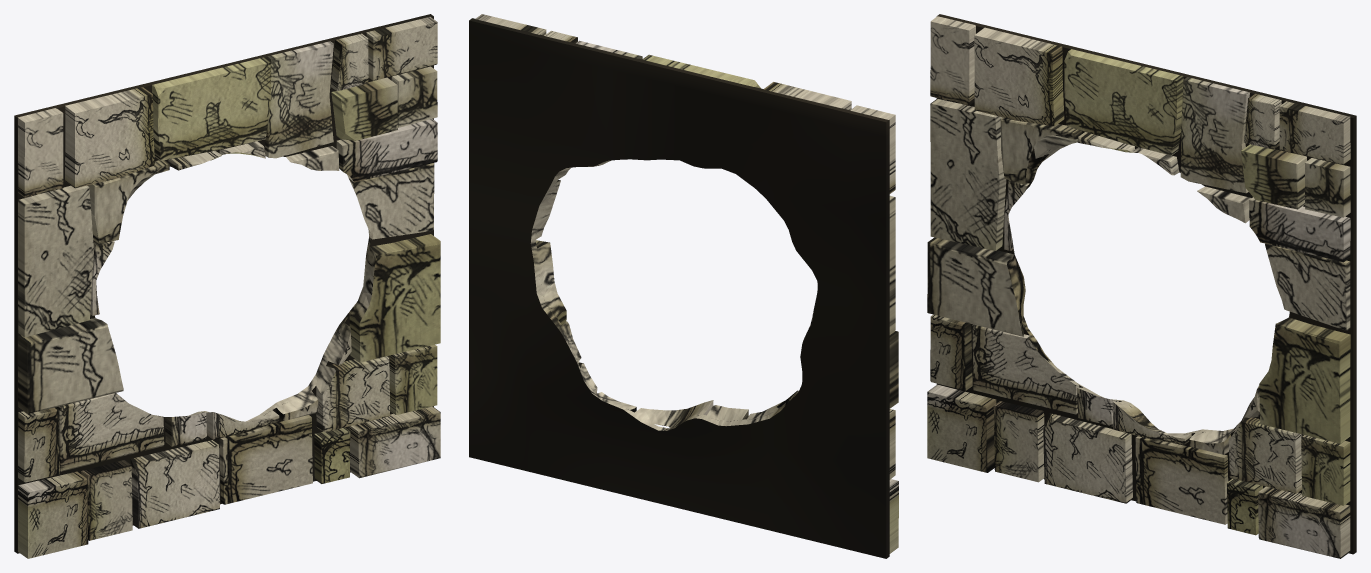
File: stone_wall_hole.glb
3 views of the same model, side by side, from view 1: azimuth 30°, elevation 25°; view 2: azimuth 150°, elevation 25°; view 3: azimuth 330°, elevation 25° (orthographic).
Parts seen in each view (by area): view 1: Stone Wall Hole; view 2: Stone Wall Hole; view 3: Stone Wall Hole.
Boxes of the visible parts, left/top/right/bottom form: Stone Wall Hole: left=14, top=14, right=440, bottom=558; Stone Wall Hole: left=469, top=14, right=898, bottom=558; Stone Wall Hole: left=927, top=14, right=1356, bottom=558.
Size of the model in its own units: 2 by 2.01 by 0.1117.
1 material, 1 textured.
